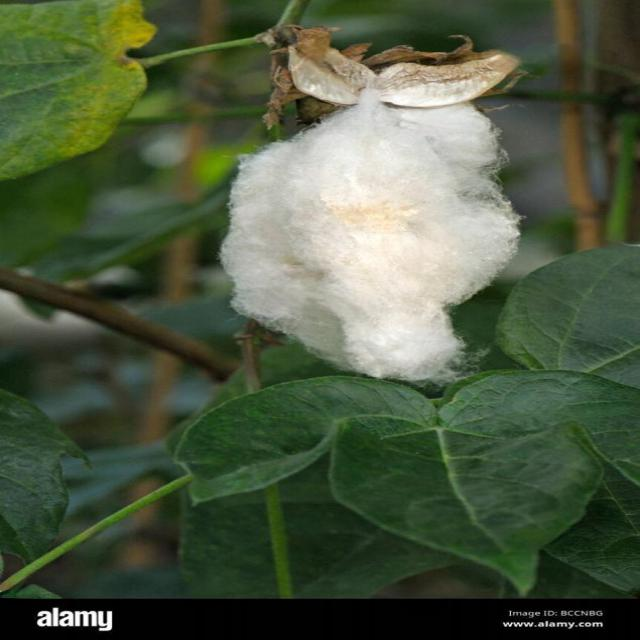Late_blight: (194, 8, 546, 413)
